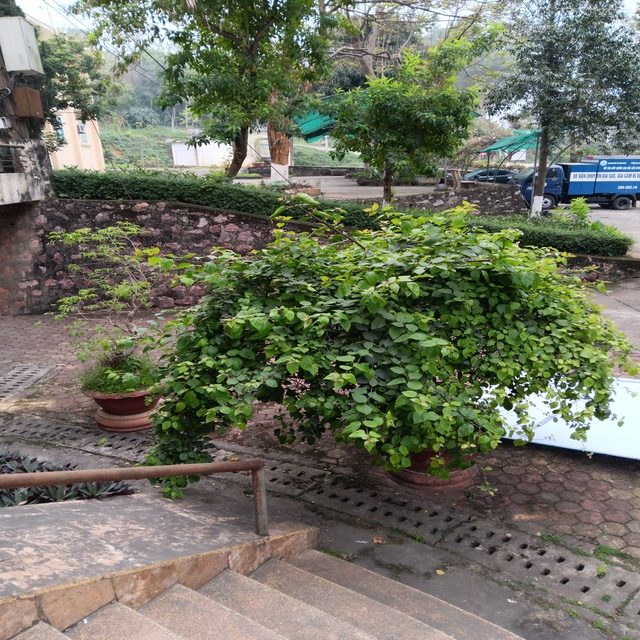caycanh: (249, 201, 604, 495), (36, 226, 208, 429)
